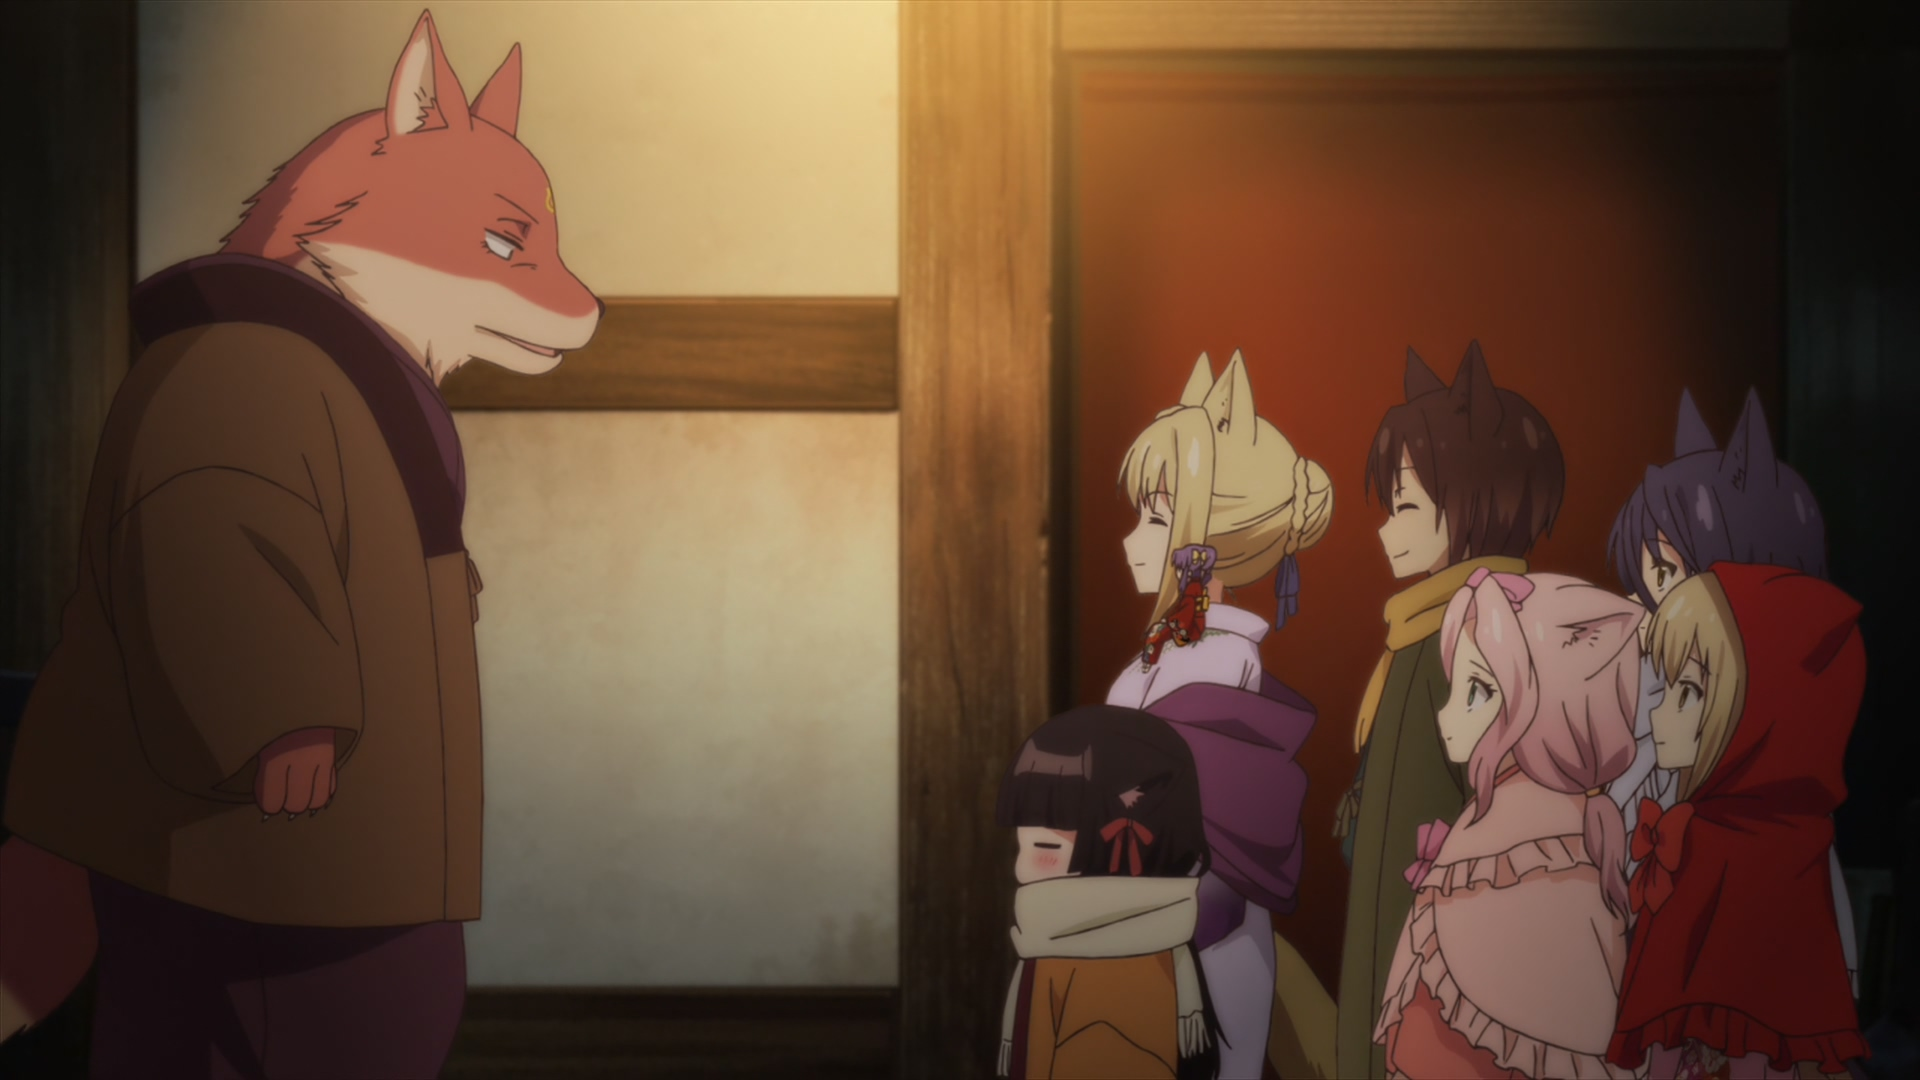枣: (1338, 342, 1565, 1080)
柚: (1607, 558, 1869, 1080)
桐: (1100, 348, 1341, 1080)
椿: (1, 8, 603, 1080)
樱: (998, 704, 1209, 1080)
皋: (1597, 389, 1859, 1011)
莲: (1371, 567, 1646, 1080)
